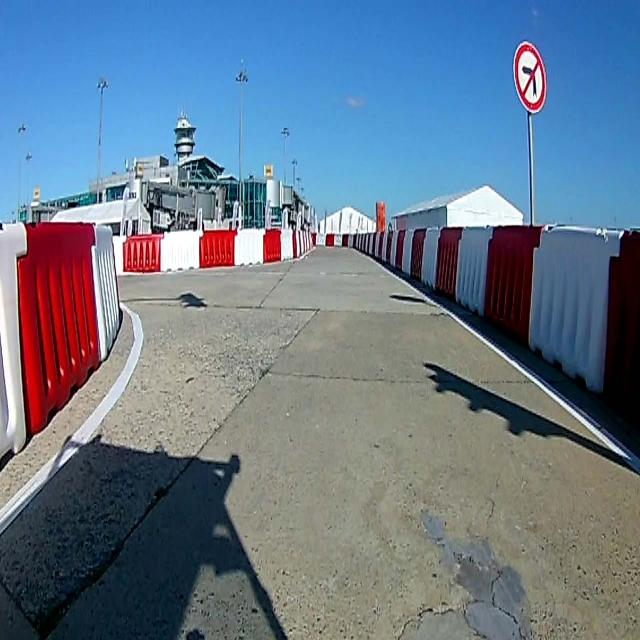soladonulmez: (513, 39, 548, 115)
